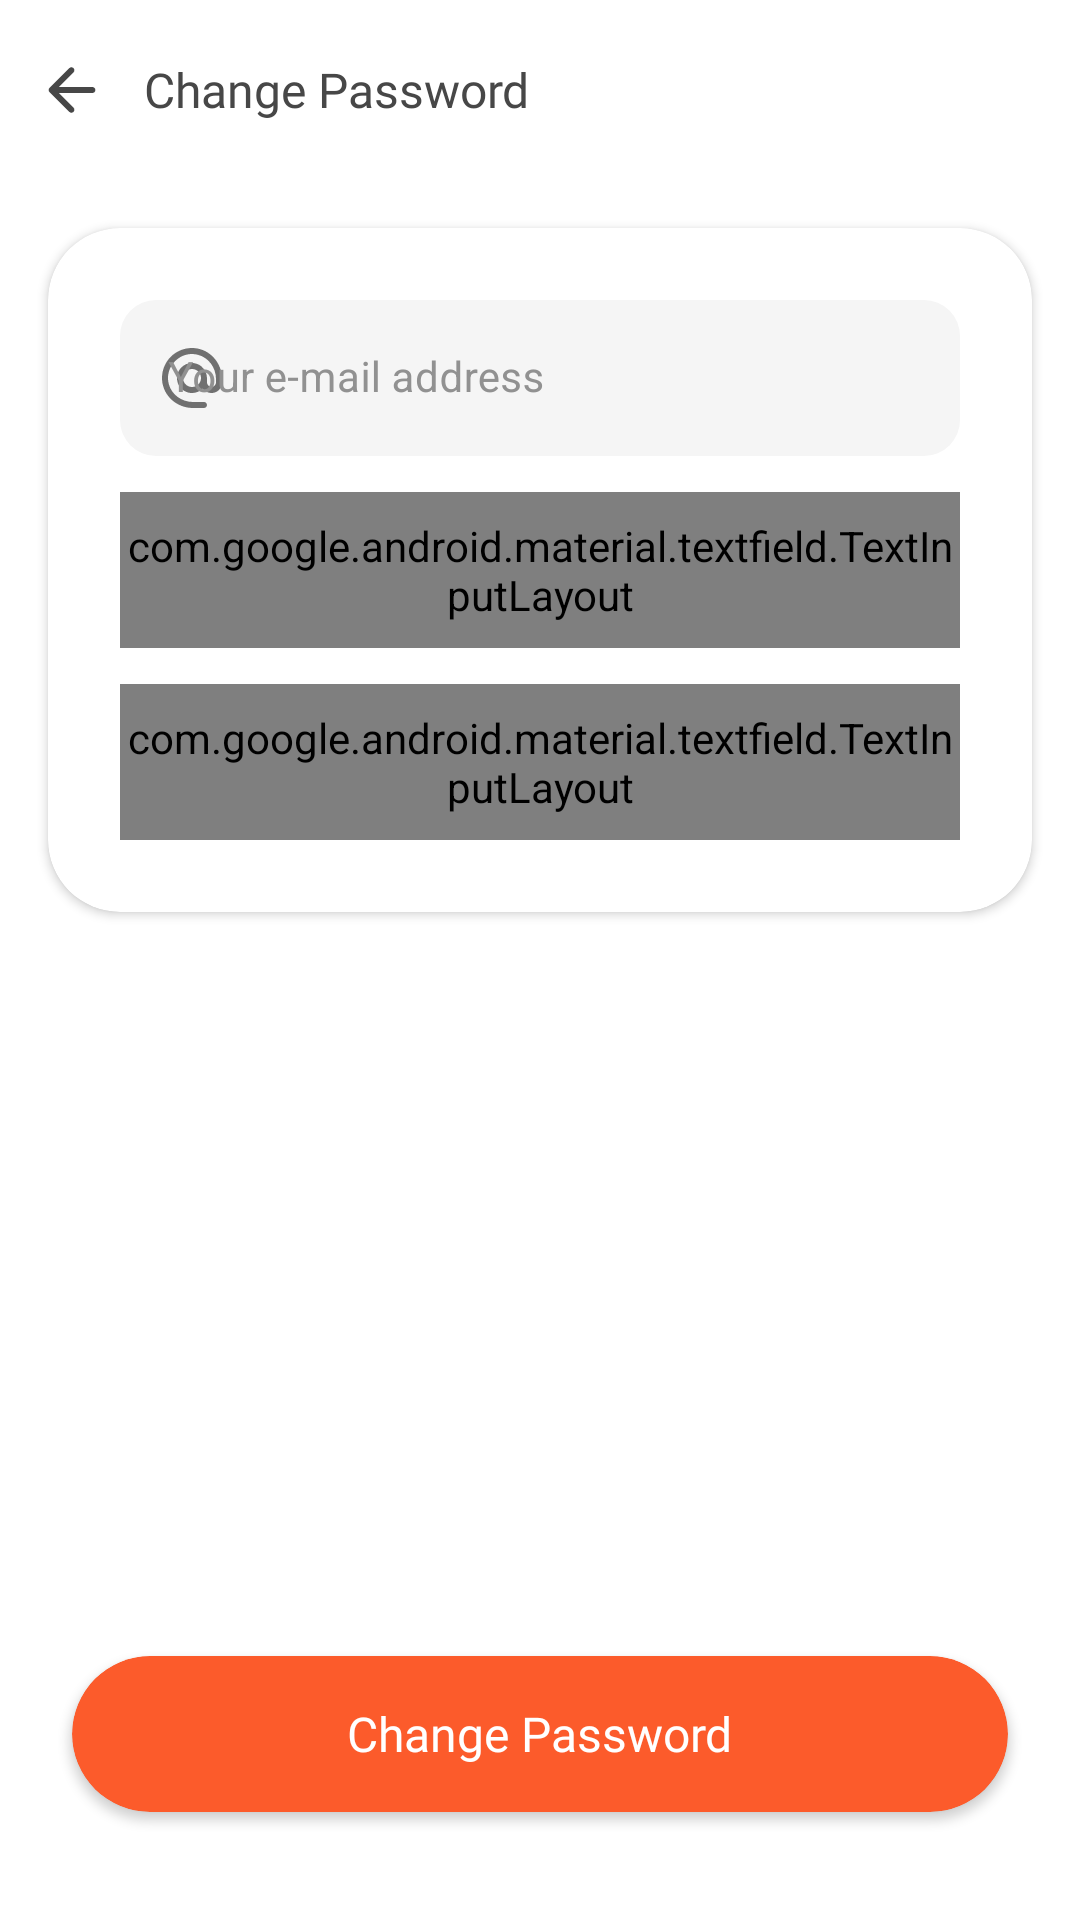

Icon bounding boxes for this 1080*1920 phone screenshot, format (x1, y1, x2, y2):
arrow left: (48, 67, 96, 113)
